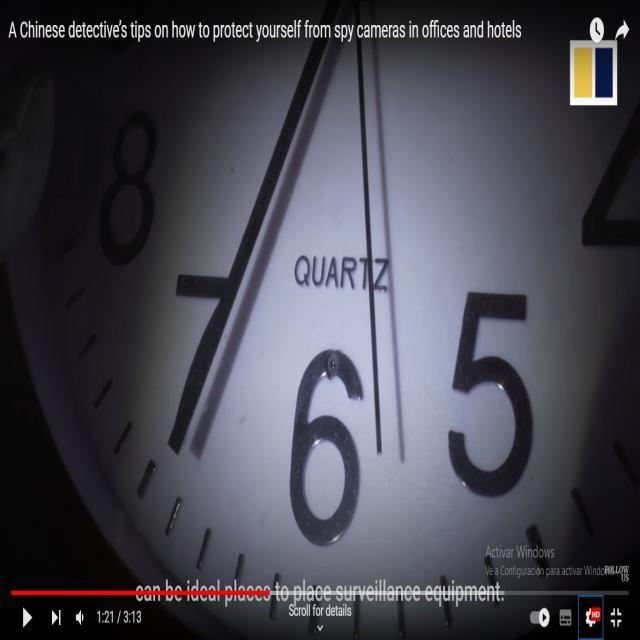hidden camera: (326, 352, 340, 377)
